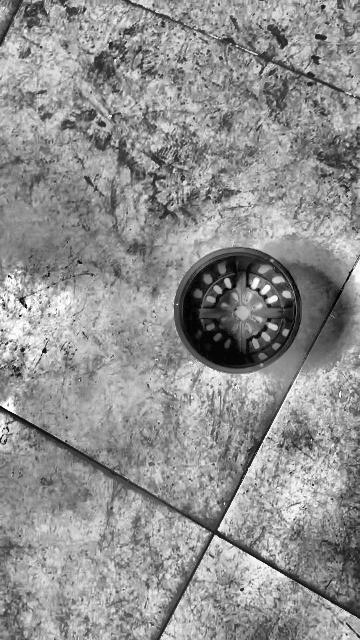pot: (174, 247, 301, 373)
